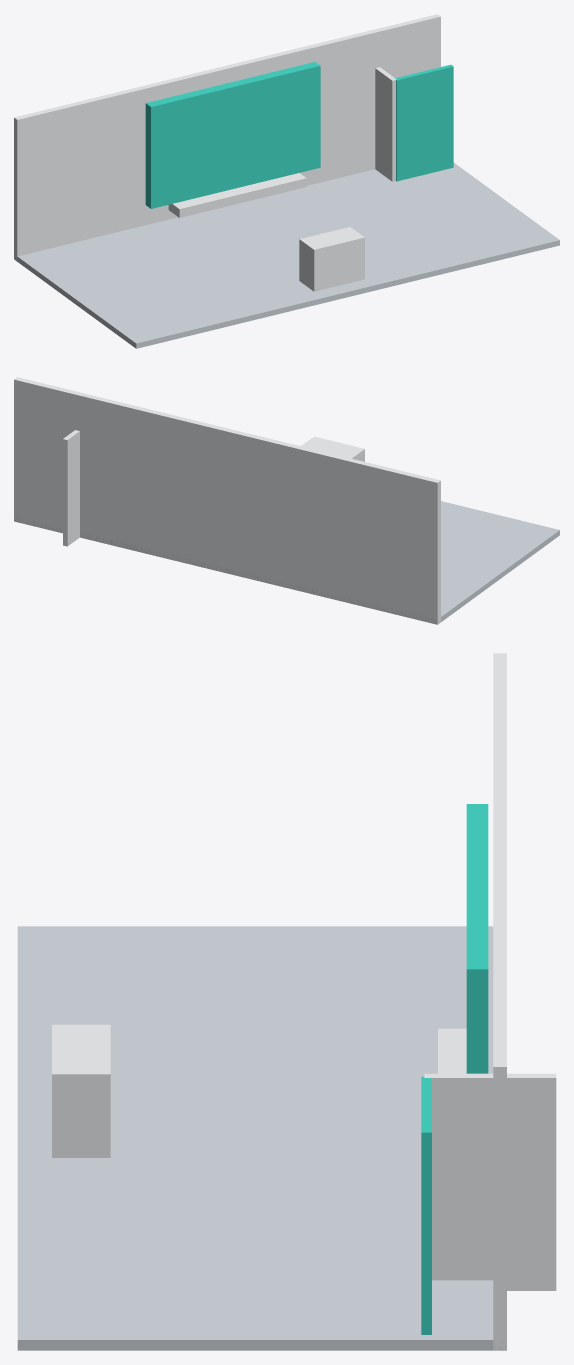
The picture shows the model from 3 angles, top to bottom: view 1: azimuth 30°, elevation 25°; view 2: azimuth 150°, elevation 25°; view 3: azimuth 270°, elevation 25°; orthographic projection. The views are drawn at different scales.
Parts seen in each view (by area): view 1: Exhibition Booth Concept; view 2: Exhibition Booth Concept; view 3: Exhibition Booth Concept.
Part boxes in pixels (bbox=[...]): Exhibition Booth Concept: bbox=[14, 14, 559, 348]; Exhibition Booth Concept: bbox=[14, 377, 559, 624]; Exhibition Booth Concept: bbox=[17, 653, 556, 1350].
Size of the model in its own units: 10 by 3.2 by 5.51.
